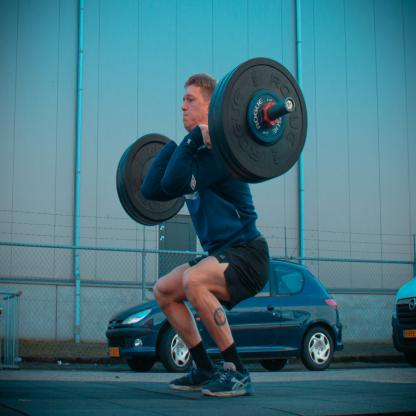Barbell: (206, 53, 311, 187)
